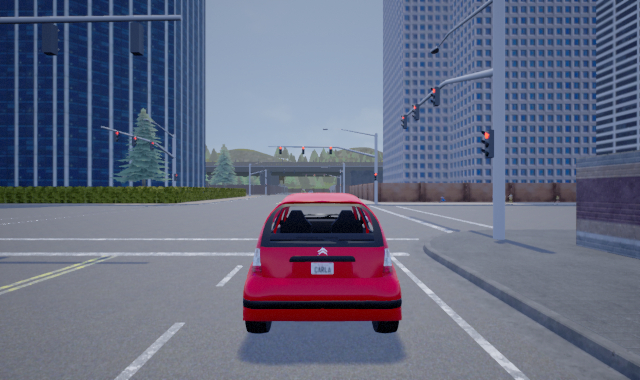traffic_light: (480, 128, 494, 160), (428, 86, 440, 106), (411, 103, 420, 121), (401, 112, 408, 129), (113, 129, 121, 143), (131, 135, 138, 148), (149, 139, 155, 151), (173, 172, 178, 181), (301, 144, 305, 154), (278, 145, 282, 155), (373, 172, 377, 181), (328, 146, 332, 155)
vehicle: (241, 192, 401, 333)
